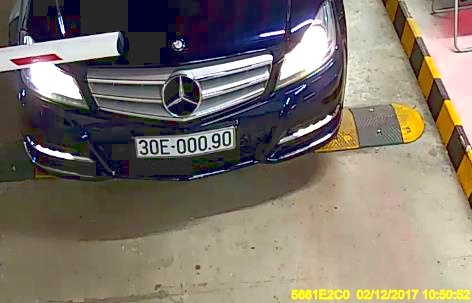plate: (132, 128, 239, 161)
